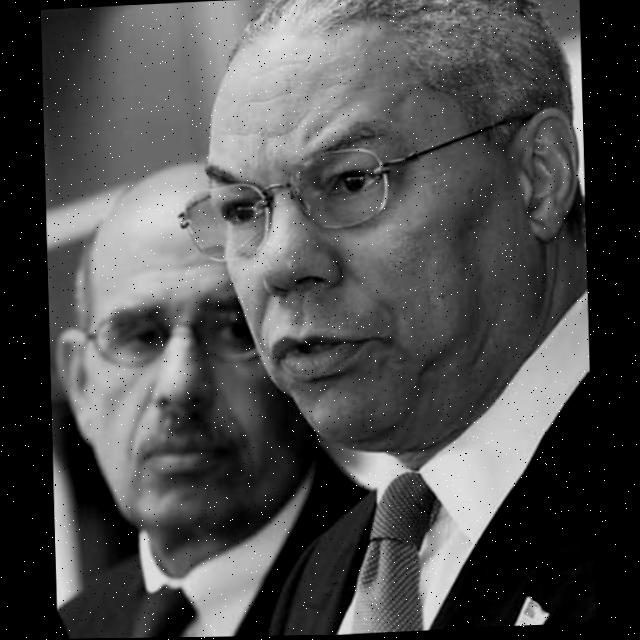face: (200, 22, 555, 457), (65, 154, 338, 547)
